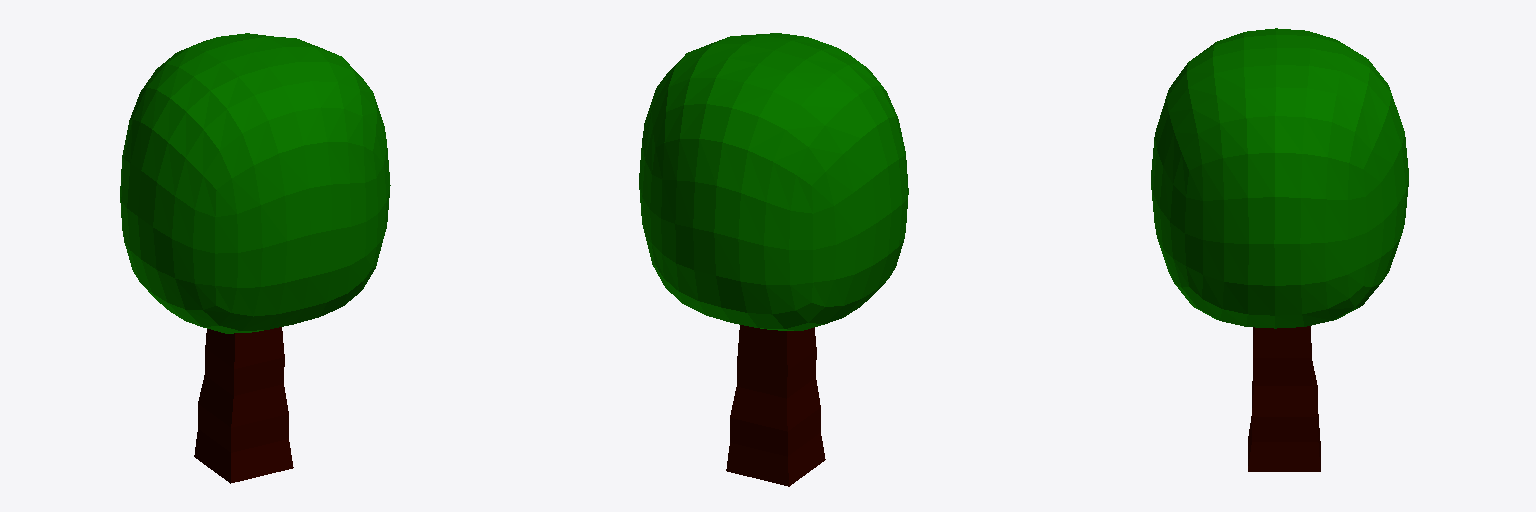
Rendered from TREE.obj.
The picture shows the model from 3 angles: view 1: azimuth 30°, elevation 25°; view 2: azimuth 150°, elevation 25°; view 3: azimuth 270°, elevation 25°; orthographic projection.
Visible parts, largest first — view 1: Tree; view 2: Tree; view 3: Tree.
Part boxes in pixels (bbox=[...]): Tree: bbox=[120, 33, 390, 483]; Tree: bbox=[639, 33, 908, 486]; Tree: bbox=[1151, 28, 1408, 471].
Bounding box in the file's own units: 5.41 × 8.8 × 5.02.